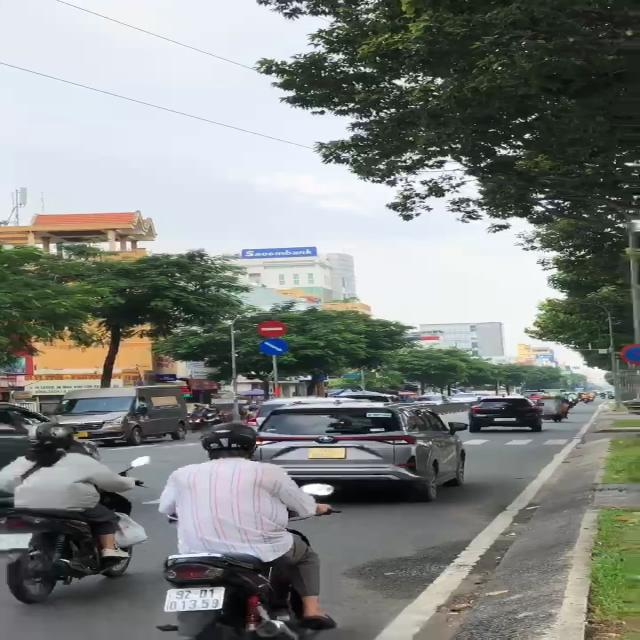Bien bao cam di nguoc chieu: (256, 321, 290, 338)
Bien bao huong phai di vong chuong ngai vat: (256, 338, 294, 358)
